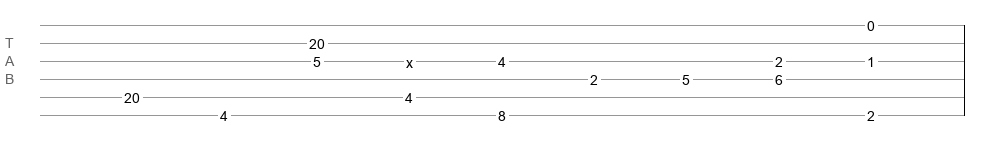0: (867, 18, 875, 28)
1: (867, 54, 875, 64)
2: (590, 72, 598, 82), (775, 54, 783, 64), (867, 108, 875, 118)
20: (124, 90, 140, 100), (309, 36, 325, 46)
4: (220, 108, 228, 118), (405, 90, 413, 100), (498, 54, 506, 64)
5: (313, 54, 321, 64), (682, 72, 690, 82)
6: (775, 72, 783, 82)
8: (498, 108, 506, 118)
x: (406, 55, 413, 63)
